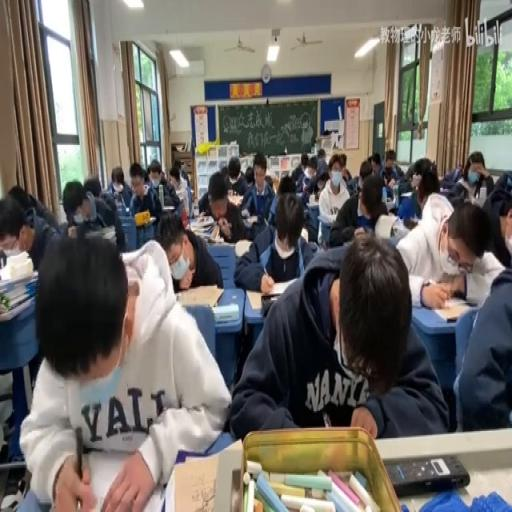calculator: (78, 448, 162, 509), (171, 453, 219, 512), (245, 284, 293, 310), (178, 283, 223, 307), (432, 298, 474, 322), (0, 266, 35, 294), (213, 302, 239, 324), (88, 225, 114, 240), (234, 238, 252, 258), (192, 215, 213, 226), (212, 238, 235, 248), (383, 196, 396, 212), (226, 194, 242, 206), (242, 215, 258, 226), (210, 224, 219, 240), (306, 196, 320, 206), (399, 191, 413, 199), (192, 200, 198, 218), (300, 225, 307, 240), (162, 204, 176, 210), (439, 185, 450, 192)
paper: (23, 225, 227, 509), (230, 229, 442, 439), (396, 193, 506, 310), (156, 206, 222, 292), (0, 186, 58, 273), (328, 168, 390, 247), (238, 152, 274, 232), (130, 158, 164, 225), (454, 149, 494, 205), (105, 165, 133, 210), (197, 165, 222, 215), (62, 179, 90, 223), (168, 162, 190, 213), (415, 168, 440, 210), (222, 155, 246, 196), (488, 174, 511, 216), (380, 148, 402, 186), (438, 162, 464, 192), (292, 151, 310, 186), (314, 155, 330, 186), (82, 176, 102, 199), (338, 152, 352, 184), (370, 151, 383, 179), (276, 174, 294, 194), (402, 162, 418, 184), (358, 158, 372, 179), (244, 165, 254, 185), (307, 160, 317, 176), (354, 226, 367, 238), (264, 175, 274, 189), (158, 168, 167, 182), (352, 174, 358, 190), (180, 168, 186, 180)
person: (386, 452, 470, 496), (402, 218, 418, 230), (464, 296, 478, 306)
